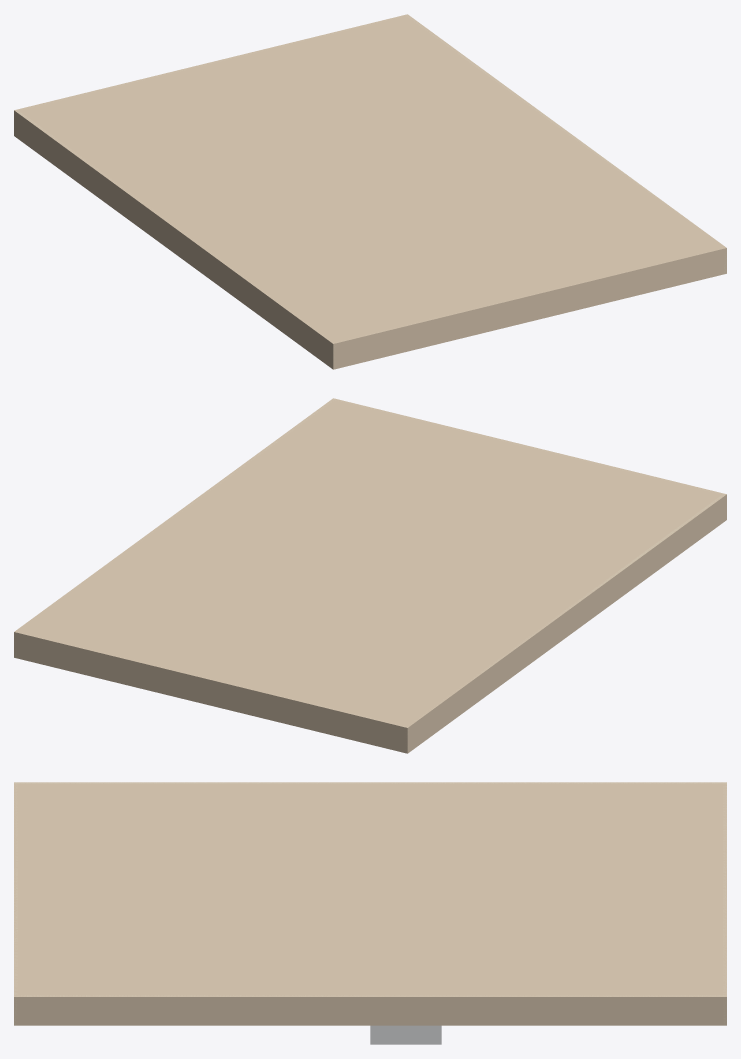
Rendered from v2-real-ftable-0.glb.
3 renders of one model, top to bottom at view 1: azimuth 30°, elevation 25°; view 2: azimuth 150°, elevation 25°; view 3: azimuth 270°, elevation 25°, orthographic. The views are drawn at different scales.
Size of the model in its own units: 400 by 60 by 562.
